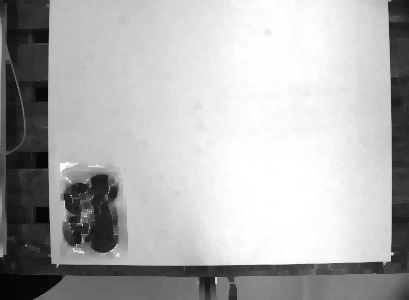t1: (56, 161, 123, 262)
